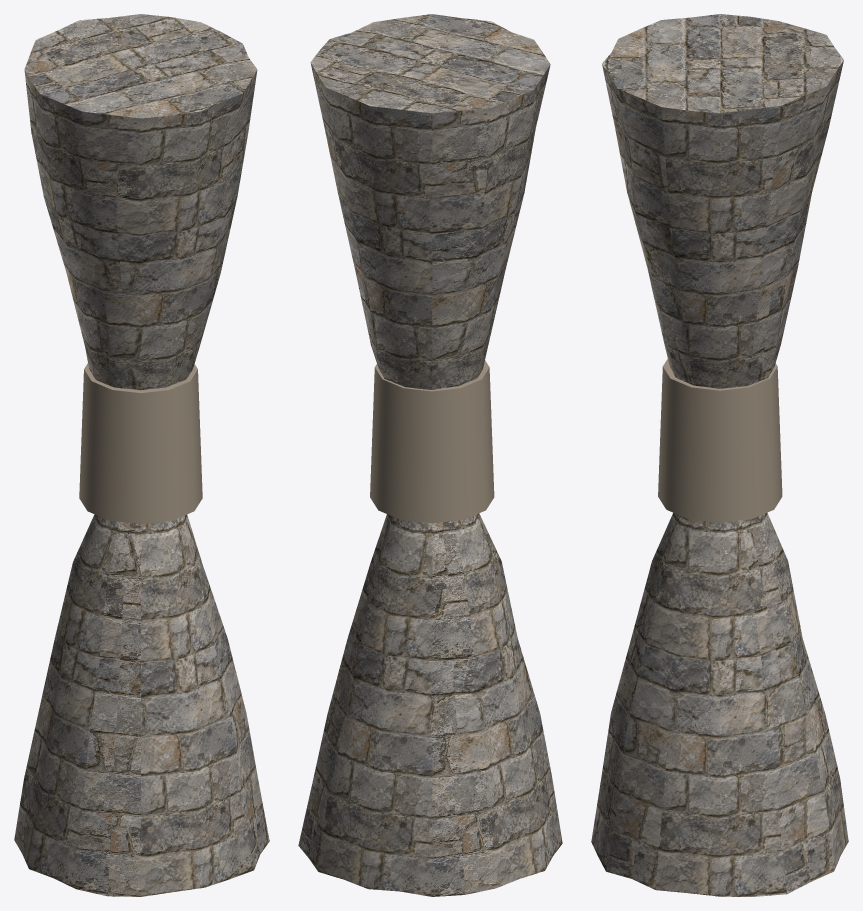
Rendered from natural-stone-column-v01.glb.
The picture shows the model from 3 angles, left to right: view 1: azimuth 30°, elevation 25°; view 2: azimuth 150°, elevation 25°; view 3: azimuth 270°, elevation 25°; orthographic projection.
Parts seen in each view (by area): view 1: natural-stone-column; view 2: natural-stone-column; view 3: natural-stone-column.
Part boxes in pixels (bbox=[...]): natural-stone-column: bbox=[14, 14, 269, 896]; natural-stone-column: bbox=[298, 14, 562, 896]; natural-stone-column: bbox=[591, 14, 848, 896].
Size of the model in its own units: 1.08 by 3.62 by 1.08.
Materials: 1 (1 with a texture image).
